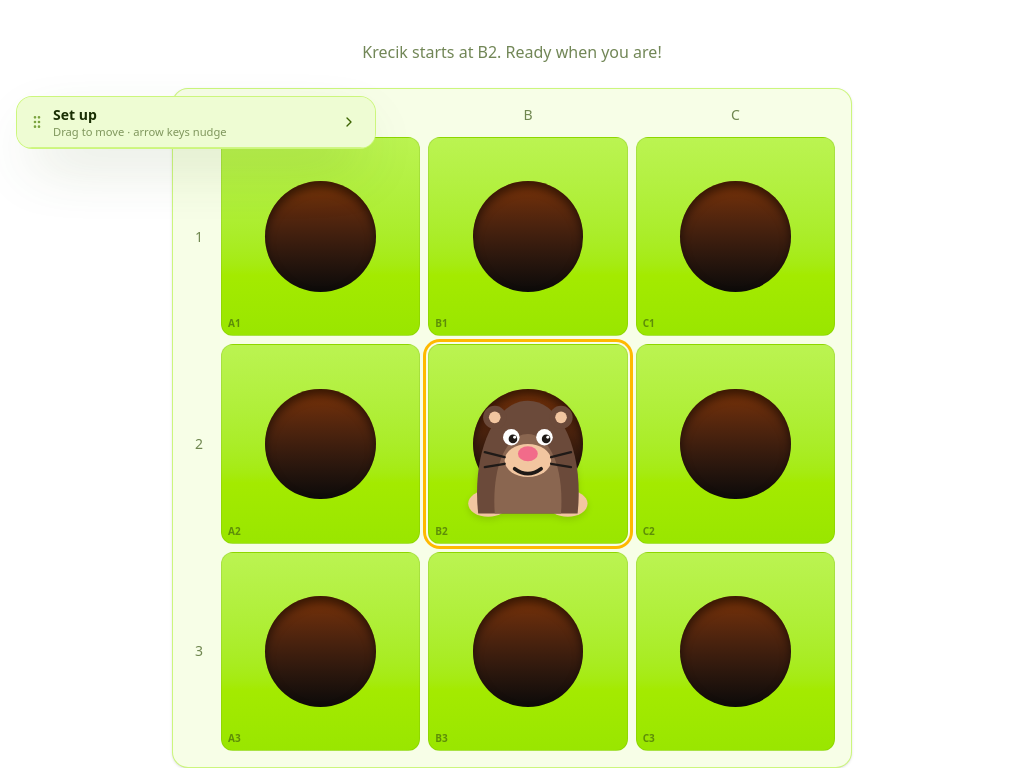
Test case: WhereIsKrecikGame locale › renders the setup and play controls in English
This screenshot has width=1024, height=768.
Expected: the text "Krecik starts at B2. Ready when you are!" is shown, [362,41,662,63]
Expected: the text "Set up" is shown, [53,105,97,124]
Click the button named "Expand panel" at (349, 122), box [335,108,363,136]
(page scrolled)
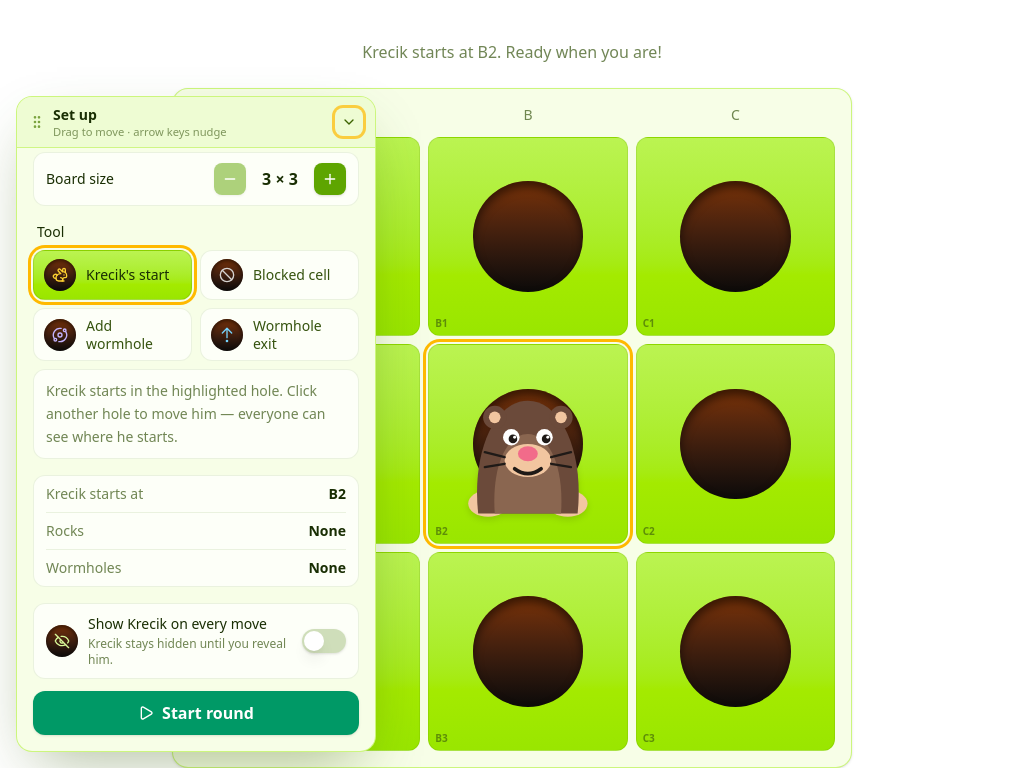
Expected: the button "Start round" is shown
Click the button "Start round" at (196, 713), box [33,691,359,735]
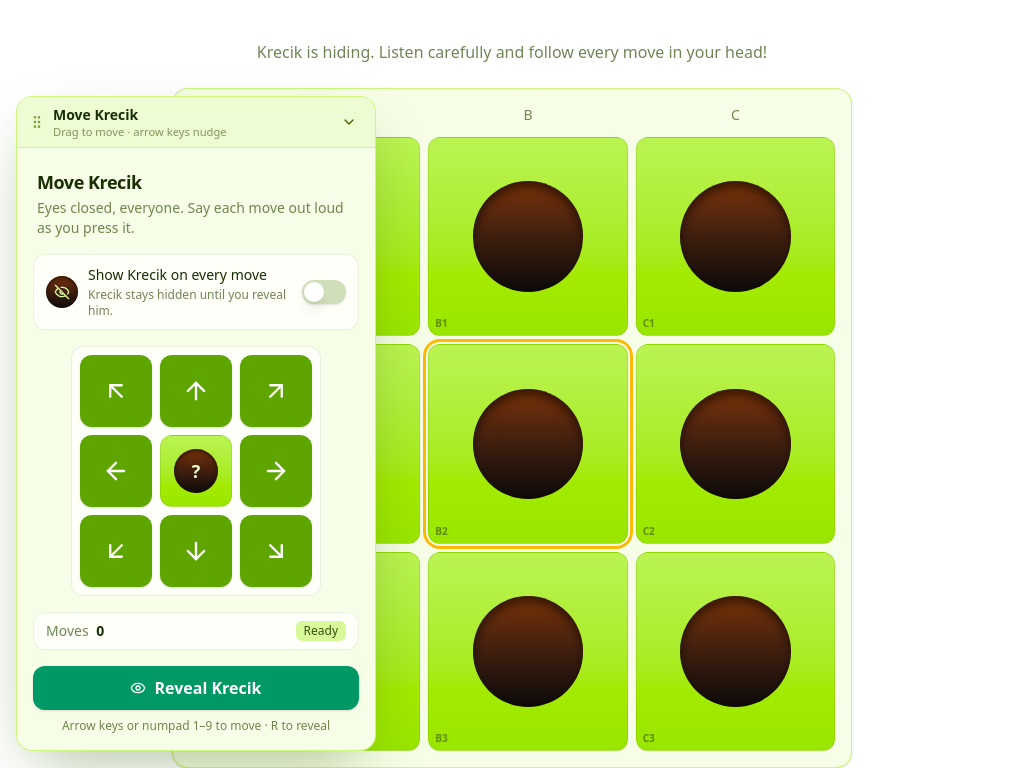
Expected: the heading "Move Krecik" is shown, [37,170,142,194]
Expected: the button "Reveal Krecik" is shown
Click the button "Reveal Krecik" at (196, 688), box [33,666,359,710]
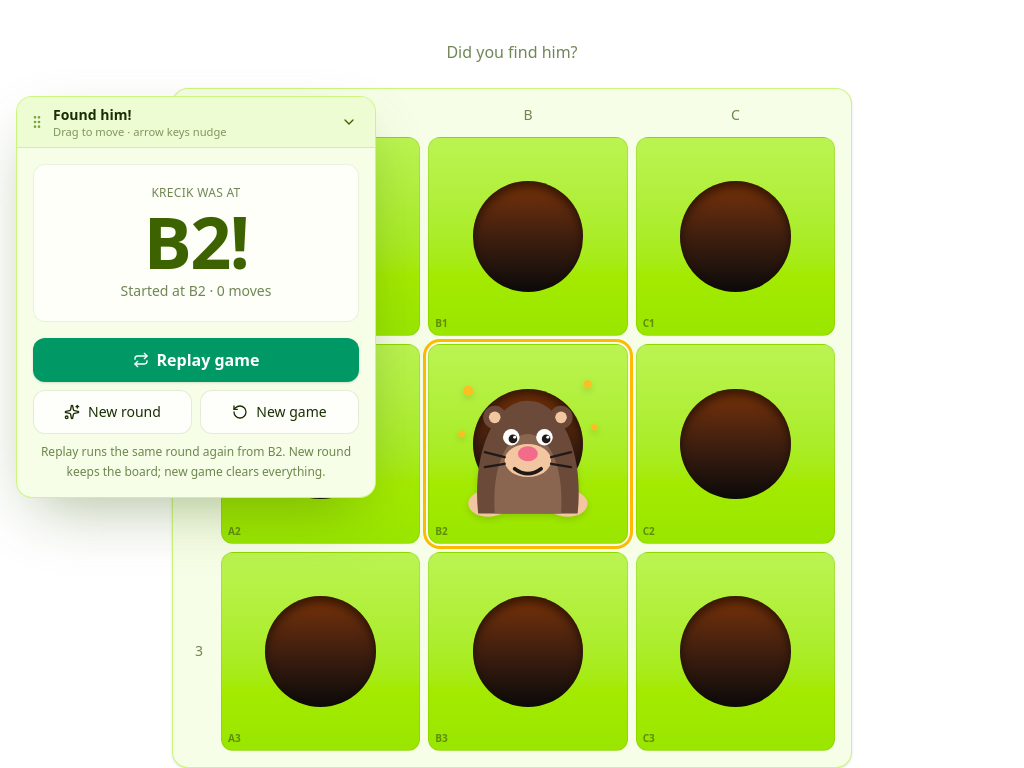
Expected: the text "Did you find him?" is shown, [446,41,578,63]
Expected: the text "Krecik was at" is shown, [151,185,241,201]
Expected: the button "New game" is shown, [200,390,359,434]
